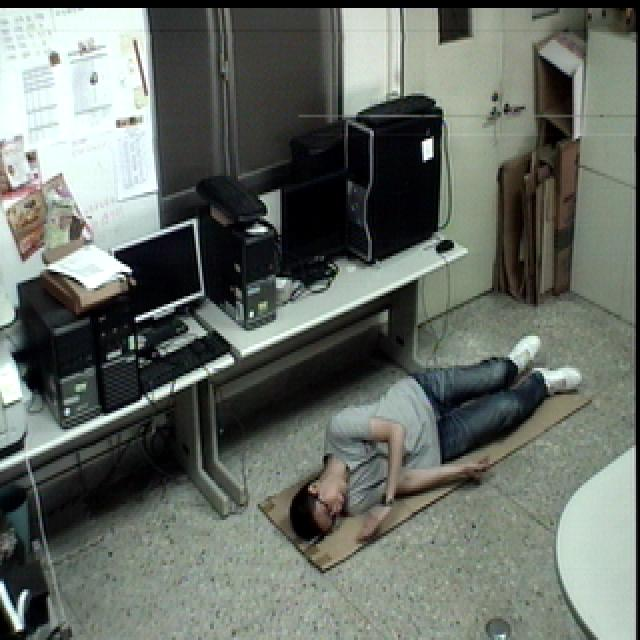lie: (286, 337, 584, 548)
